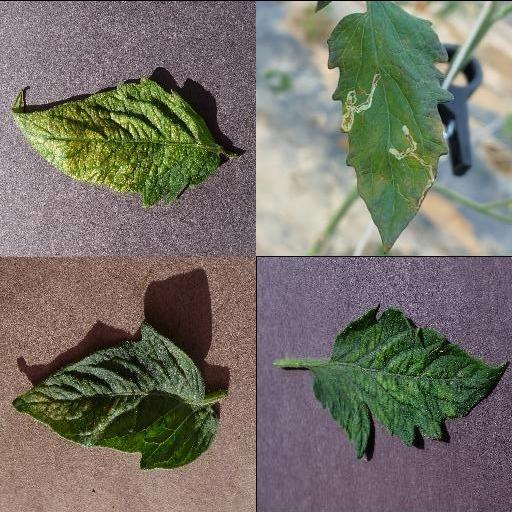Leaf Miner: (327, 0, 456, 255)
Mosaic Virus: (310, 303, 508, 462)
Spider Mites: (10, 323, 220, 469), (9, 77, 223, 205)
